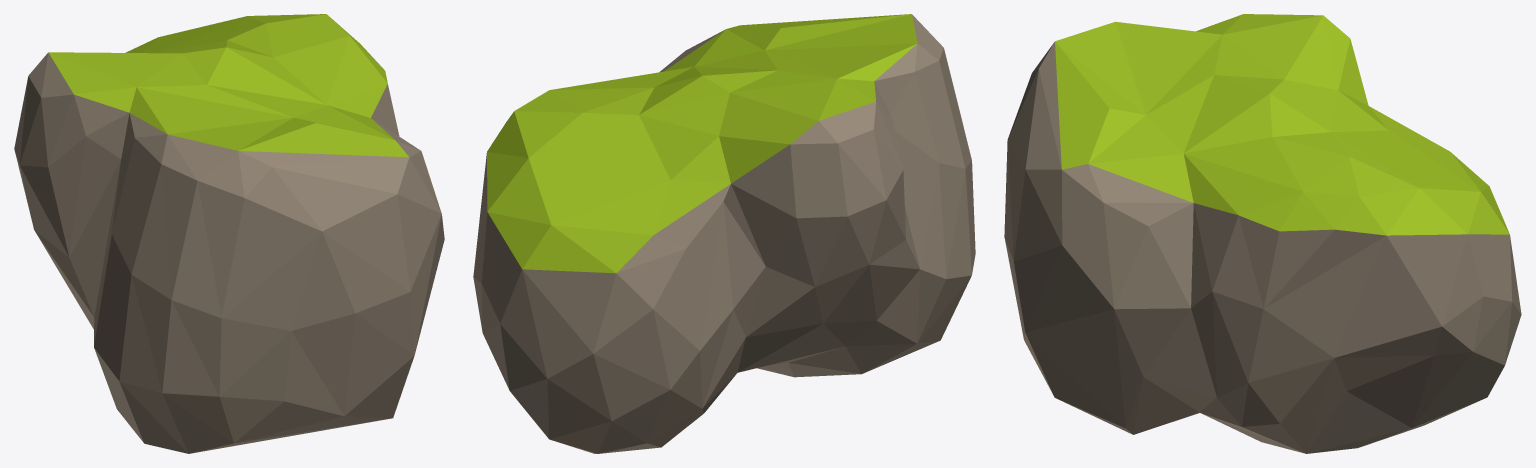
Rendered from village_pack_rock_6.glb.
The picture shows the model from 3 angles, left to right: view 1: azimuth 30°, elevation 25°; view 2: azimuth 150°, elevation 25°; view 3: azimuth 270°, elevation 25°; orthographic projection. The views are drawn at different scales.
Parts seen in each view (by area): view 1: rock 6_grass 1_0; view 2: rock 6_grass 1_0; view 3: rock 6_grass 1_0.
Part boxes in pixels (<box>): rock 6_grass 1_0: <box>14,14,444,453</box>; rock 6_grass 1_0: <box>473,14,975,453</box>; rock 6_grass 1_0: <box>1004,14,1521,453</box>.
Size of the model in its own units: 6.57 by 6.11 by 8.51.
